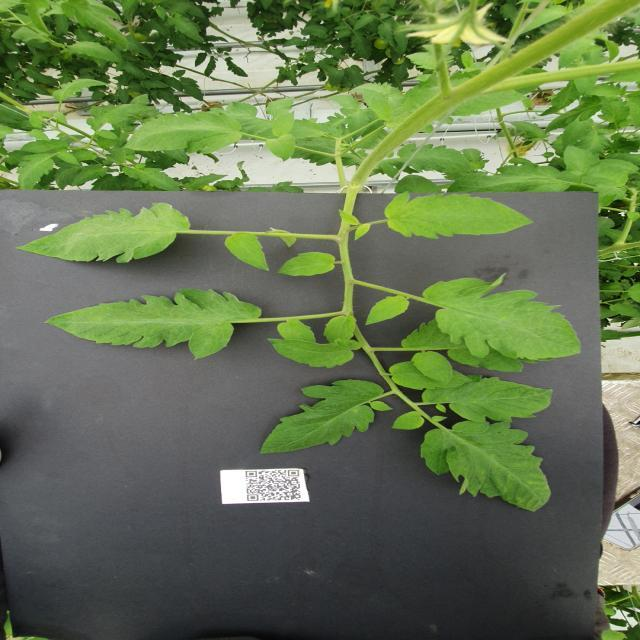Tomato healthy leaf: (45, 288, 263, 362), (418, 271, 588, 360), (418, 420, 552, 512), (15, 202, 195, 264), (258, 378, 384, 456), (377, 191, 535, 238), (420, 374, 554, 424), (123, 111, 244, 155), (447, 161, 571, 192), (264, 336, 362, 369), (396, 142, 474, 174), (544, 94, 602, 135), (224, 232, 271, 272), (122, 162, 182, 192), (276, 251, 336, 277), (14, 153, 55, 190), (562, 142, 602, 178), (51, 77, 110, 101), (412, 351, 454, 384), (366, 294, 410, 325), (67, 40, 120, 63), (323, 315, 358, 343), (263, 134, 296, 162), (276, 320, 316, 343), (71, 164, 108, 187), (184, 173, 228, 191), (390, 410, 426, 430), (270, 110, 296, 136), (368, 96, 394, 122), (266, 96, 296, 118), (18, 140, 55, 154), (608, 302, 640, 318), (56, 148, 81, 166)
